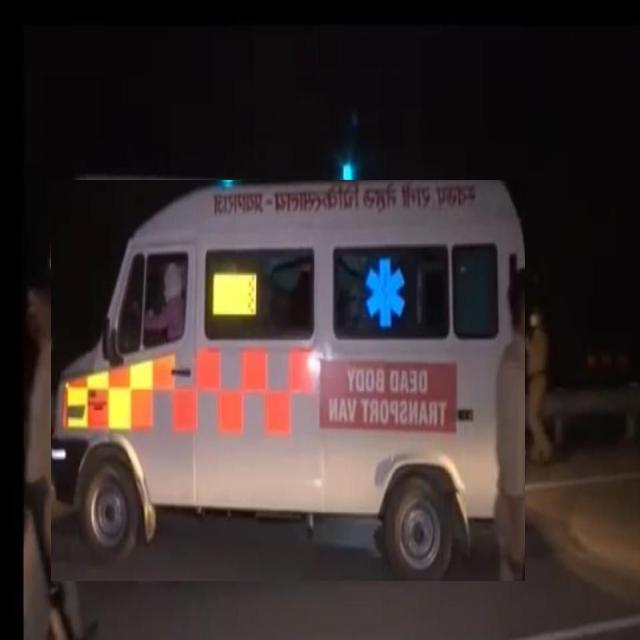emergency: (51, 180, 525, 581)
